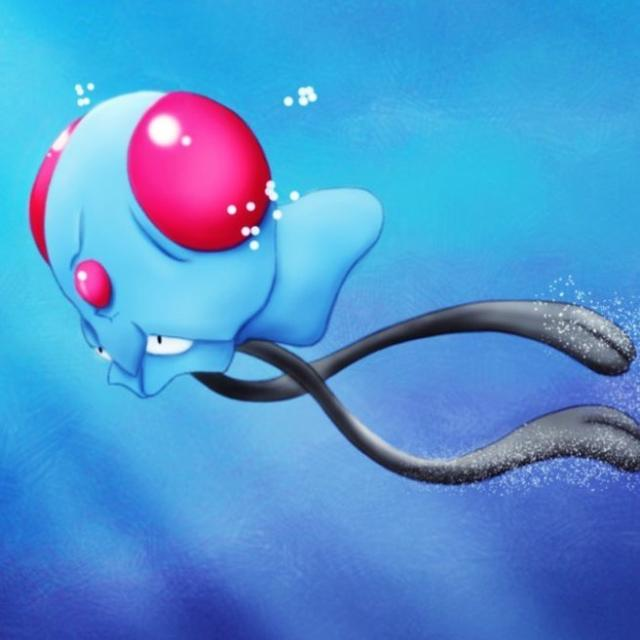Tentacool: (24, 88, 402, 416)
